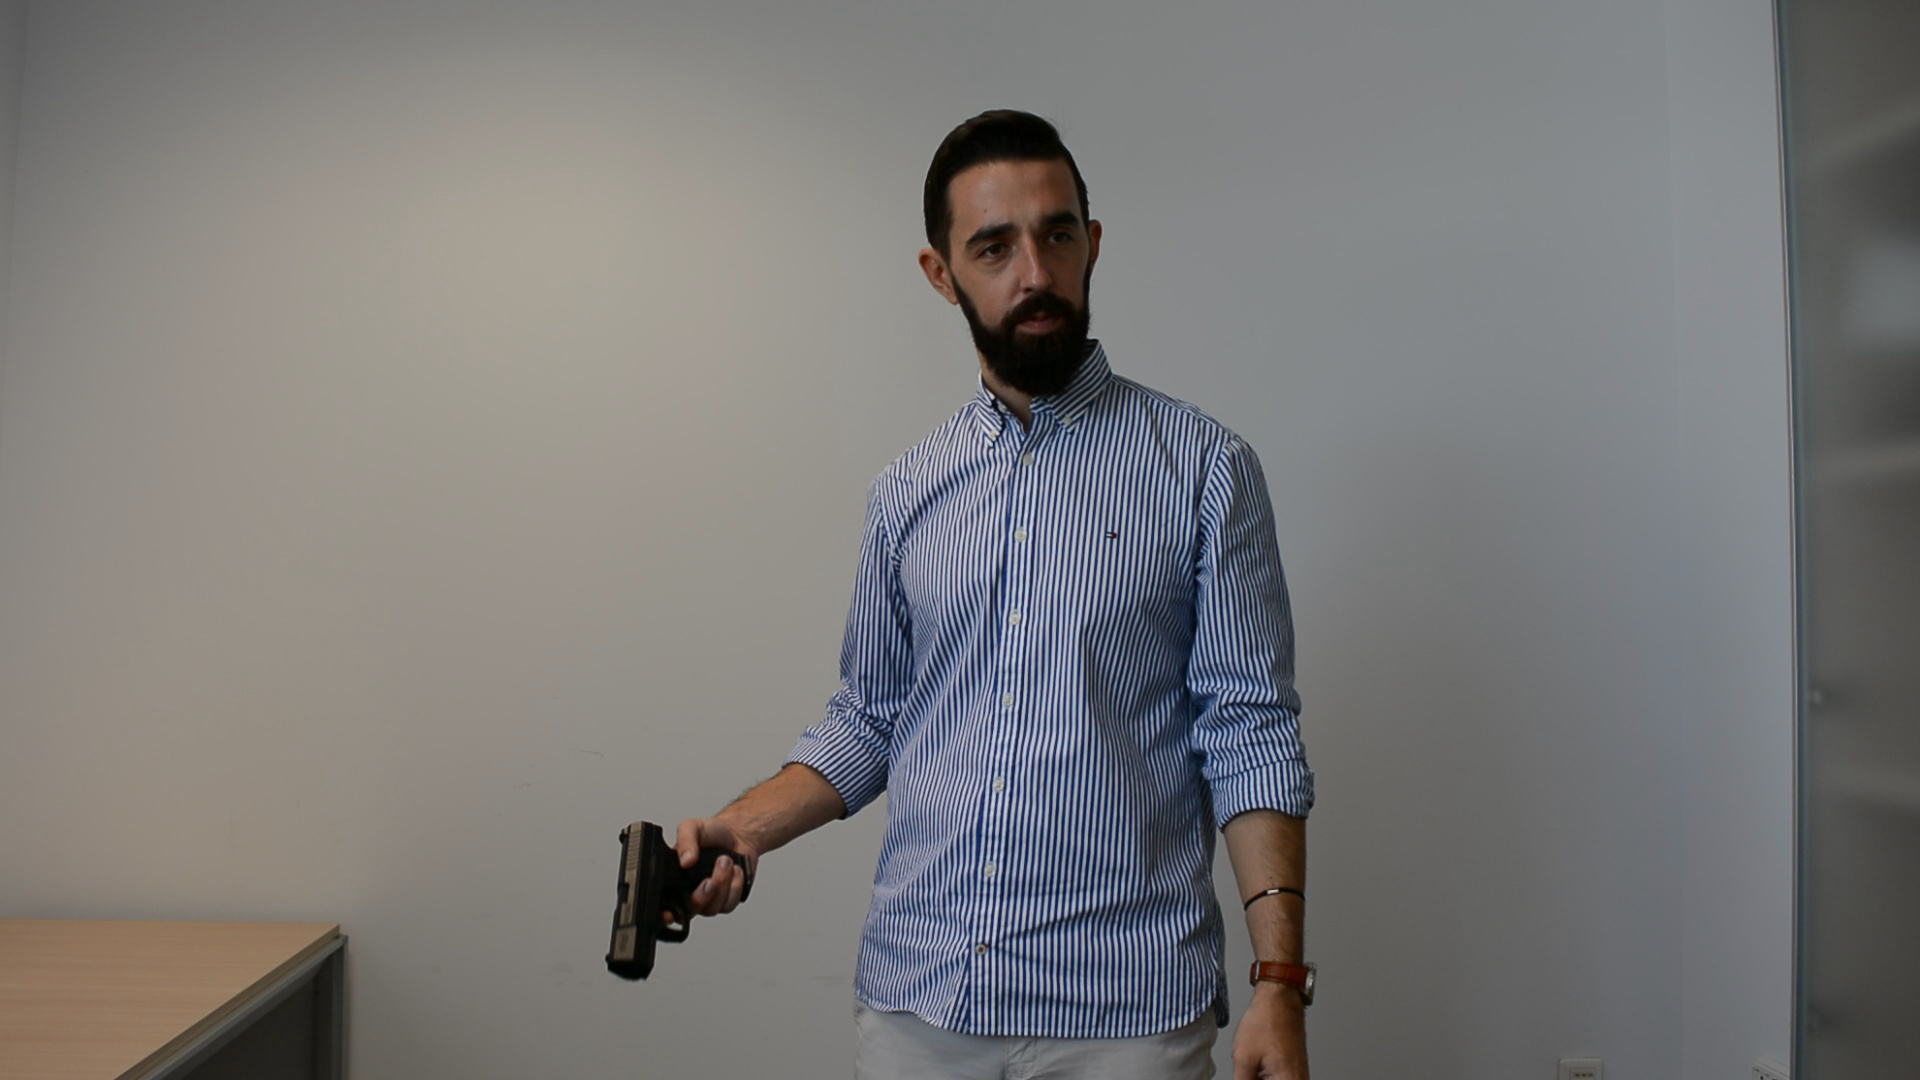pistol: (603, 816, 757, 985)
